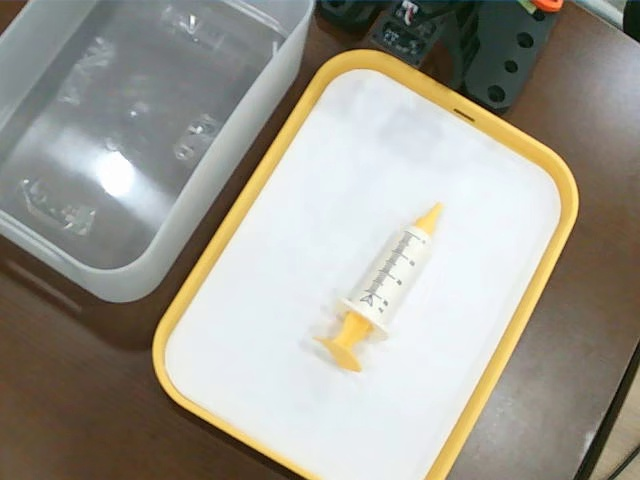syringe: (309, 196, 449, 377)
